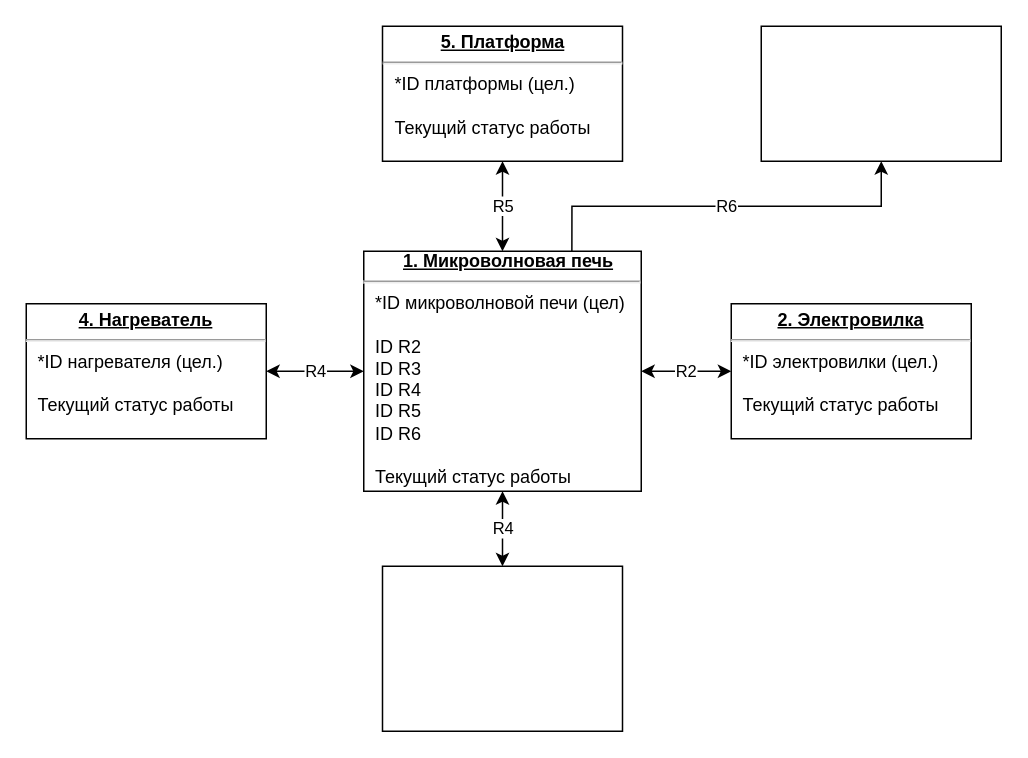
Some shapes in this 1028 by 758 pixel diagram are drawn without their labels. Each missing label, with the box of its shape:
3. Таймер *ID таймера (цел.) время Текущий статус работы: (381, 565, 622, 731)
6. Дверца *ID дверцы (цел.) Текущий статус работы: (760, 25, 1001, 161)
